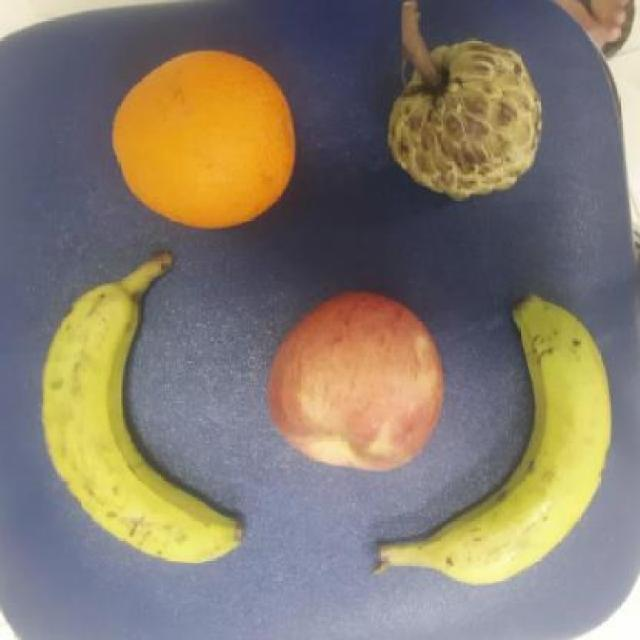apple: (263, 291, 445, 472)
banana: (372, 294, 610, 588), (40, 252, 242, 563)
oren: (112, 49, 296, 228)
sugar apple: (386, 39, 542, 204)
